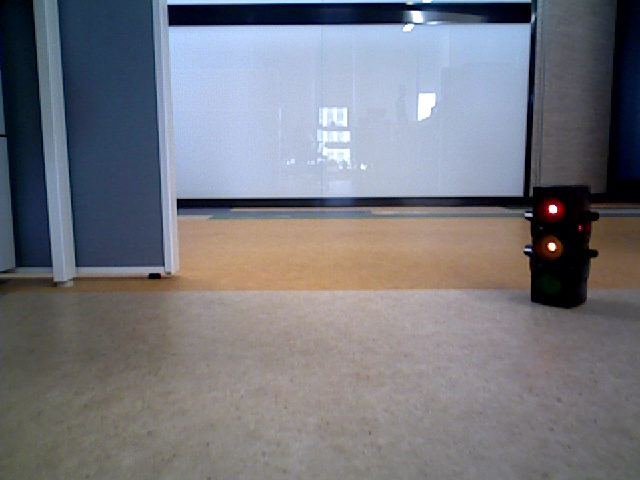red: (535, 188, 584, 302)
